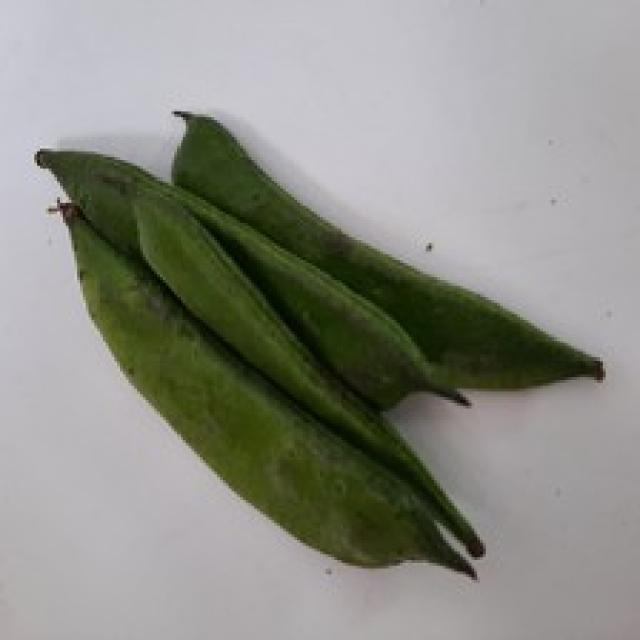Bean: (46, 191, 480, 580), (168, 106, 606, 391)
